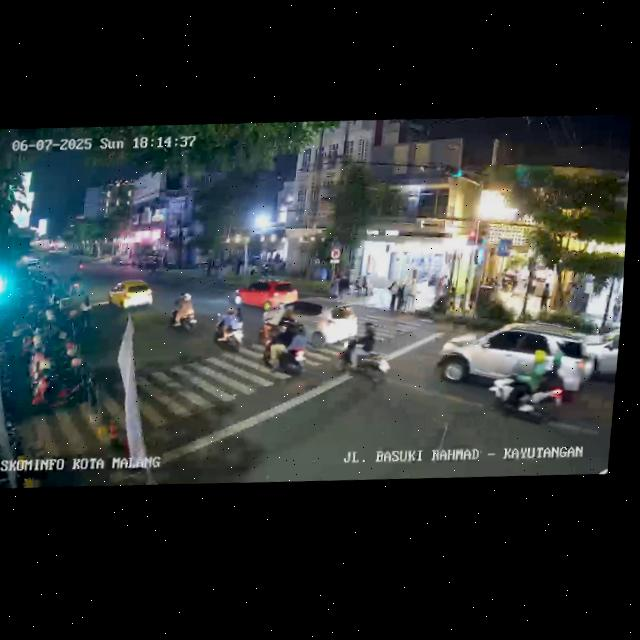car: (434, 316, 591, 399), (275, 293, 360, 353), (232, 273, 299, 315), (580, 327, 620, 393), (106, 275, 155, 315)
motorcycle: (490, 343, 575, 426), (331, 316, 396, 390), (258, 306, 315, 382), (211, 303, 247, 355), (169, 289, 200, 335)
person: (76, 293, 95, 331), (400, 277, 411, 314), (538, 279, 550, 312), (388, 279, 399, 312), (409, 278, 420, 311), (611, 291, 622, 322), (337, 273, 348, 303)
